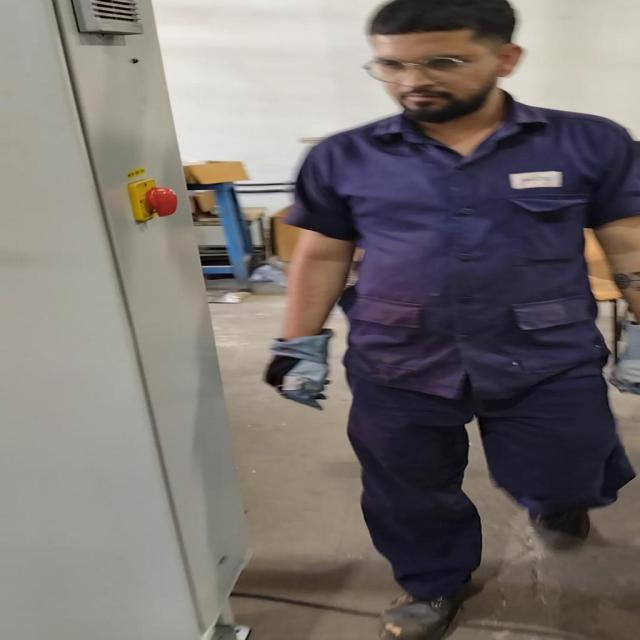Gloves-Detection: (245, 324, 332, 406), (610, 318, 640, 389)
